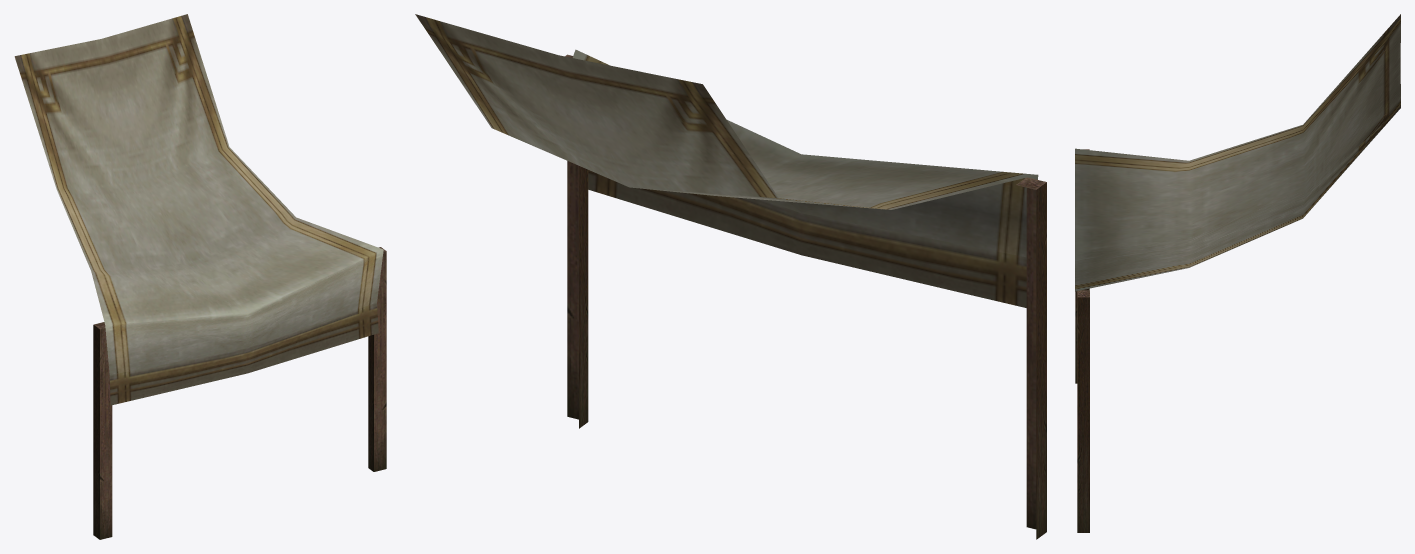
Rendered from zc_suzhou_tanwei04.FBX.
The picture shows the model from 3 angles, left to right: view 1: azimuth 30°, elevation 25°; view 2: azimuth 150°, elevation 25°; view 3: azimuth 270°, elevation 25°; orthographic projection. The views are drawn at different scales.
Visible parts, largest first — view 1: zc_suzhou_tanwei04; view 2: zc_suzhou_tanwei04; view 3: zc_suzhou_tanwei04.
Part boxes in pixels (box(x1,y1,x2,y2)): zc_suzhou_tanwei04: box(14, 14, 386, 539); zc_suzhou_tanwei04: box(415, 14, 1046, 539); zc_suzhou_tanwei04: box(1075, 14, 1400, 532).
Bounding box in the file's own units: 393 × 472 × 346.
Materials: 1 (1 with a texture image).
